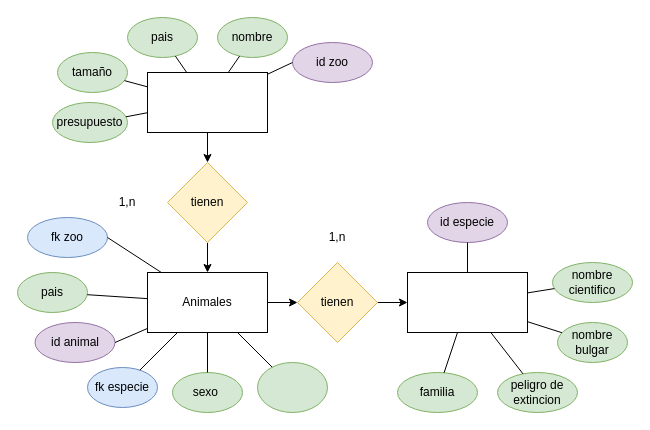
Image size: 650x430. Some labels were removed from this diagram. Each missing label, with the centre of its shape:
año de nacimiento: the point at 292,387
Especie Animal: the point at 467,302
zoos: the point at 207,102
